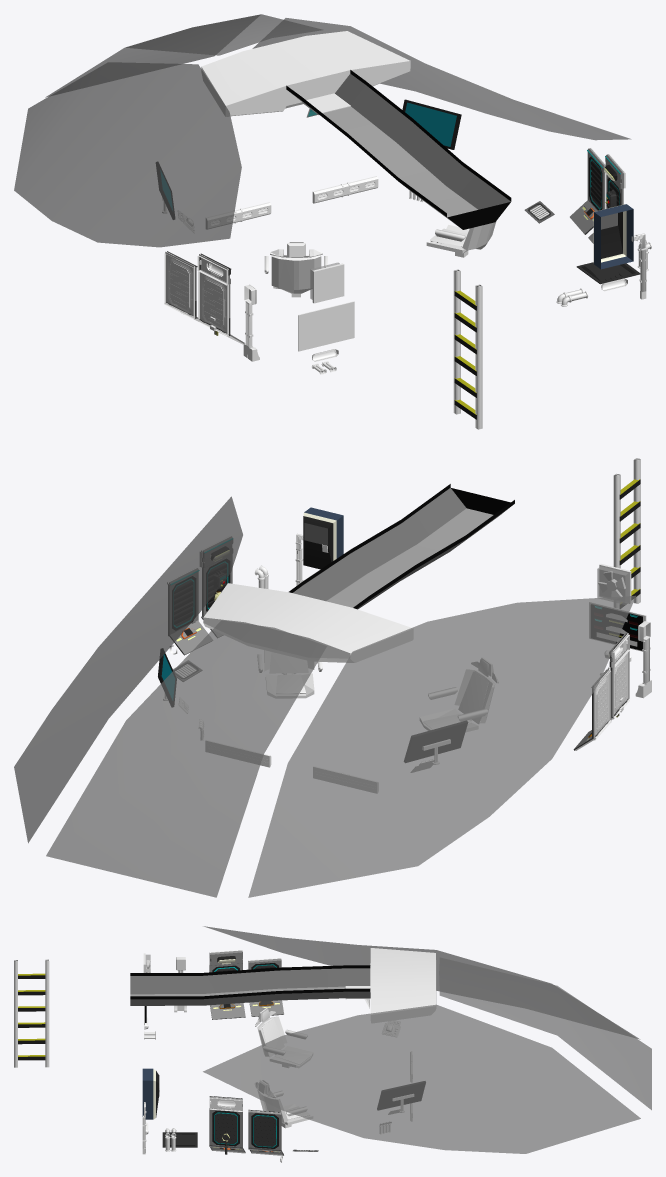
File: MainMenu_InteriorColored2.fbx
3 renders of one model, top to bottom at view 1: azimuth 30°, elevation 25°; view 2: azimuth 150°, elevation 25°; view 3: azimuth 270°, elevation 25°, orthographic. The views are drawn at different scales.
Parts seen in each view (by area): view 1: pasted__polySurface51, pCylinder64, pCube109, pasted__polySurface52, pasted__polySurface50, group79, pCube164, pCube156, pilot_seat_pCube4, pCube215, pCube61, pCube155 (+7 smaller); view 2: pasted__polySurface51, pasted__polySurface50, pasted__polySurface52, pCube109, pCylinder64, group79, pCube164, pCube1, pCube158, pCube215, pilot_seat_pCube4, pCube61 (+10 smaller); view 3: pasted__polySurface52, pasted__polySurface50, pasted__polySurface51, pCylinder64, group79, pCube109, pCube164, pCube155, pilot_seat_pCube1, pilot_seat_pCube4, pCube2, pCube210 (+3 smaller).
Part boxes in pixels (box(x1,y1,x2,y2)): pasted__polySurface51: box(14, 62, 241, 247); pCylinder64: box(286, 70, 511, 229); pCube109: box(201, 31, 410, 116); pasted__polySurface52: box(252, 18, 631, 140); pasted__polySurface50: box(45, 14, 323, 97); group79: box(166, 148, 623, 343); pCube164: box(593, 204, 633, 269); pCube156: box(298, 301, 354, 351); pilot_seat_pCube4: box(270, 249, 322, 293); pCube215: box(164, 253, 194, 319); pCube61: box(198, 270, 228, 336); pCube155: box(402, 99, 461, 149); pasted__polySurface51: box(248, 595, 635, 897); pasted__polySurface50: box(46, 620, 326, 897); pasted__polySurface52: box(14, 496, 242, 843); pCube109: box(203, 583, 413, 662); pCylinder64: box(289, 484, 514, 609); group79: box(168, 536, 628, 750); pCube164: box(303, 507, 343, 569); pCube1: box(404, 721, 467, 762); pCube158: box(597, 566, 628, 604); pCube215: box(593, 670, 611, 740); pilot_seat_pCube4: box(420, 662, 498, 731); pCube61: box(612, 649, 629, 719); pasted__polySurface52: box(203, 1004, 640, 1153); pasted__polySurface50: box(439, 957, 651, 1110); pasted__polySurface51: box(203, 926, 640, 1039); pCylinder64: box(130, 965, 370, 1005); group79: box(209, 950, 283, 1155); pCube109: box(370, 948, 436, 1022); pCube164: box(142, 1068, 159, 1119); pCube155: box(377, 1081, 425, 1110); pilot_seat_pCube1: box(254, 1082, 312, 1125); pilot_seat_pCube4: box(255, 1011, 312, 1067); pCube2: box(45, 959, 49, 1067); pCube210: box(261, 1018, 284, 1057).
Bounding box in the file's own units: 1632 × 566 × 2678.
